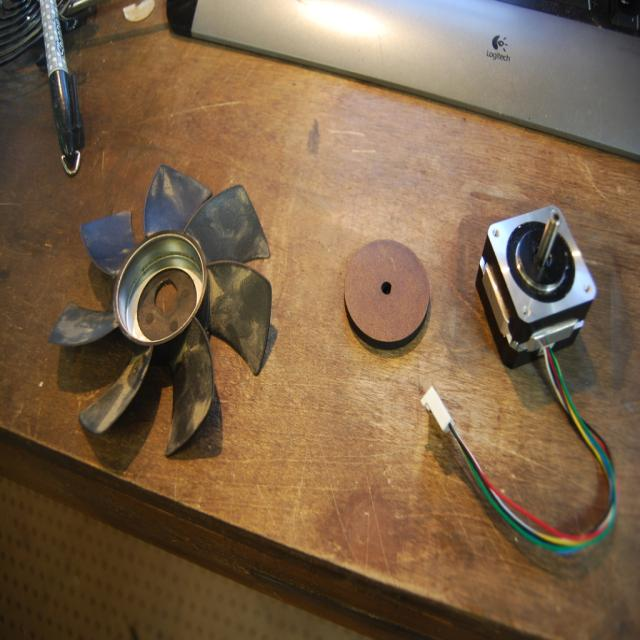pen: (39, 0, 84, 186)
